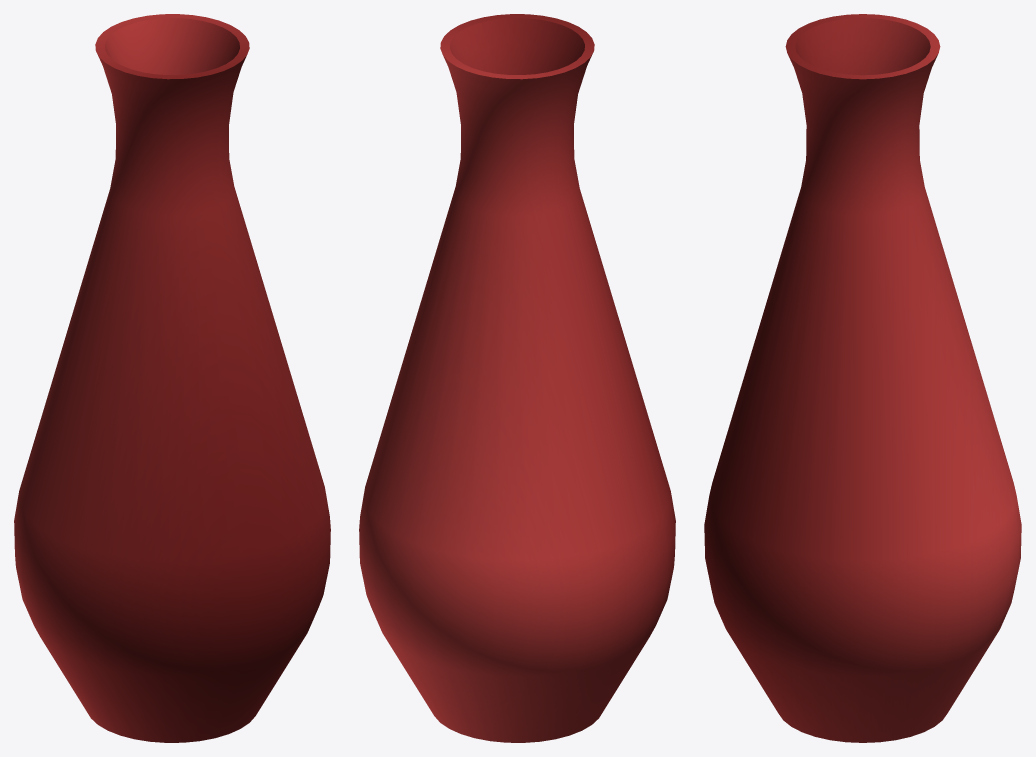
File: Jarron.fbx
The picture shows the model from 3 angles, left to right: view 1: azimuth 30°, elevation 25°; view 2: azimuth 150°, elevation 25°; view 3: azimuth 270°, elevation 25°; orthographic projection.
Parts seen in each view (by area): view 1: polySurface48; view 2: polySurface48; view 3: polySurface48.
Boxes of the visible parts, x1=… form: polySurface48: x1=14, y1=14, x2=330, y2=742; polySurface48: x1=359, y1=14, x2=675, y2=742; polySurface48: x1=704, y1=14, x2=1021, y2=742.
Size of the model in its own units: 0.4189 by 0.961 by 0.4189.
Materials: 1 (1 with a texture image).
